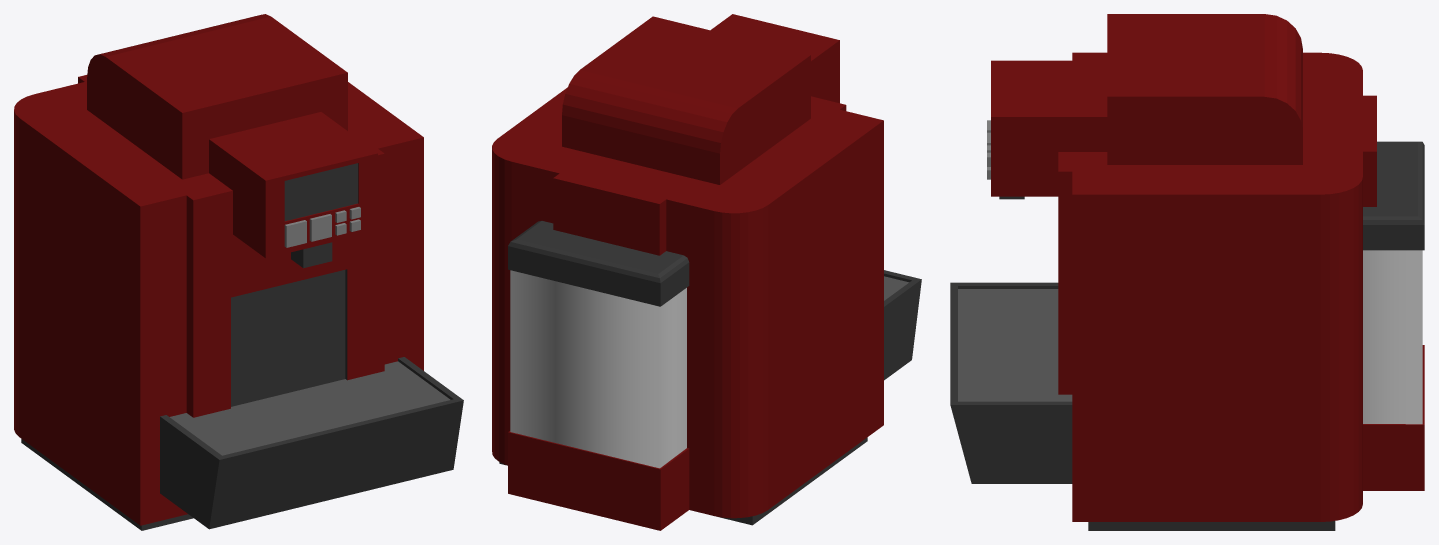
File: coffee-machine.glb
The picture shows the model from 3 angles, left to right: view 1: azimuth 30°, elevation 25°; view 2: azimuth 150°, elevation 25°; view 3: azimuth 270°, elevation 25°; orthographic projection. The views are drawn at different scales.
Visible parts, largest first — view 1: CoffeeMachine; view 2: CoffeeMachine; view 3: CoffeeMachine.
Part boxes in pixels (x1=…): CoffeeMachine: x1=14, y1=14, x2=463, y2=530; CoffeeMachine: x1=492, y1=14, x2=921, y2=530; CoffeeMachine: x1=950, y1=14, x2=1424, y2=530.
Size of the model in its own units: 0.472 by 0.6345 by 0.6665.
1 material, 1 textured.
